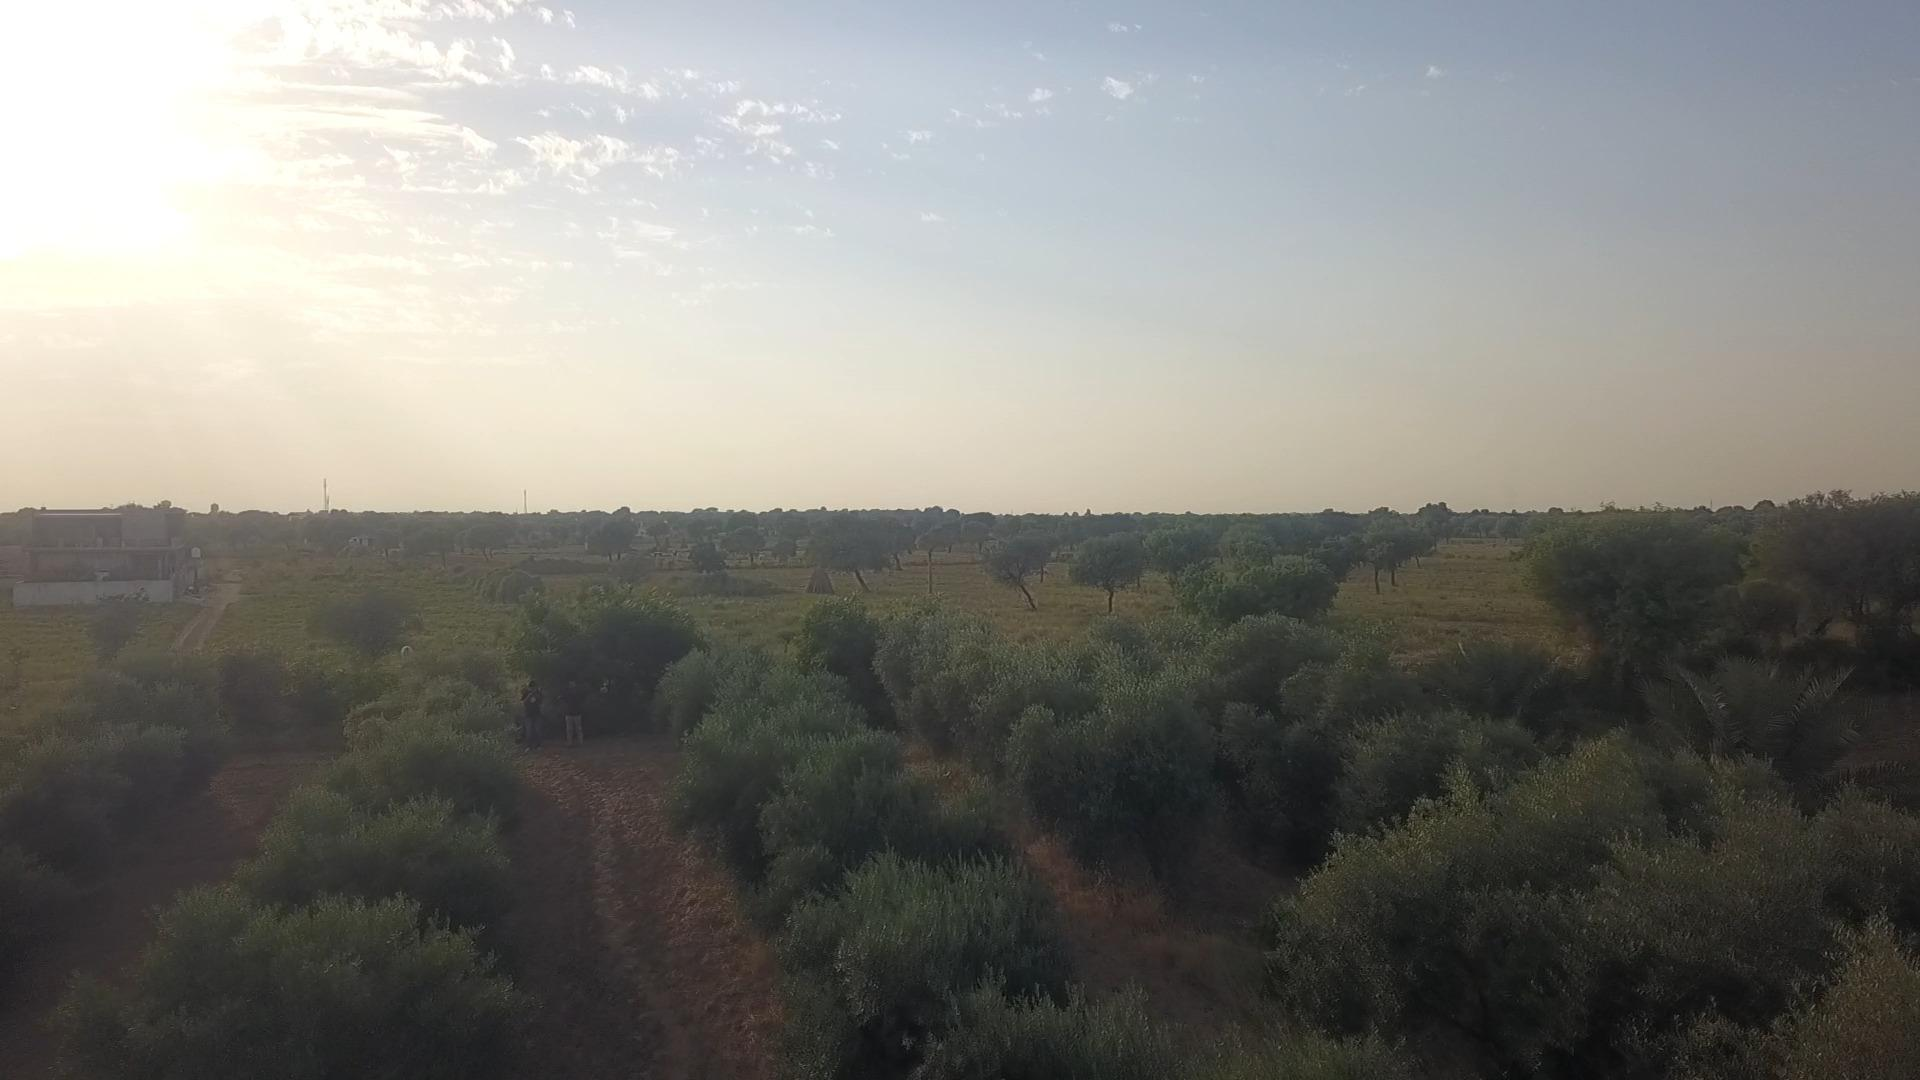canopy: (880, 611, 1919, 1079), (662, 651, 1151, 1079), (63, 682, 525, 1079), (0, 724, 208, 942)
road: (0, 744, 335, 1079), (906, 742, 1247, 1043), (489, 736, 779, 1079)
